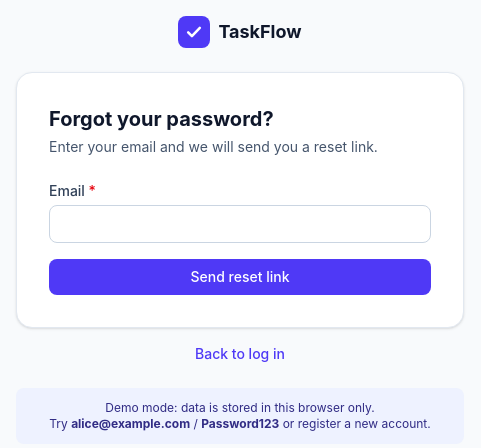
Test: GitHub Pages demo › forgot-password gives the same neutral reply
Step 1. Type "nobody@example.com" into the field labelled "Email *" → (240, 224), box [49,205,431,243]
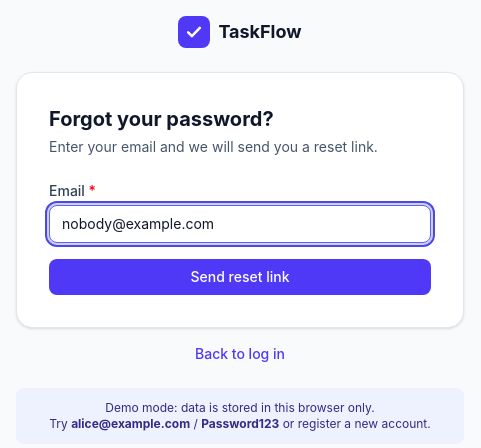
Step 2. Click the button "Send reset link" → (240, 277), box [49,259,431,295]
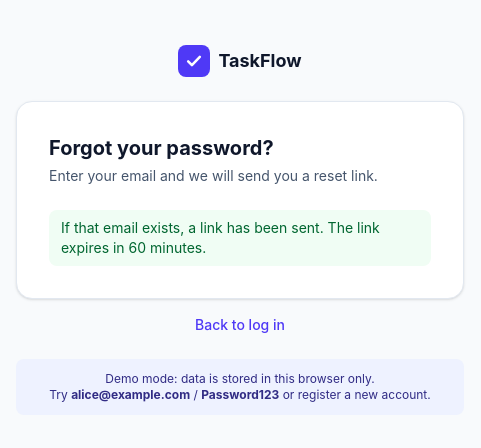
Expected: the text "If that email exists, a link has been sent. The link expires in 60 minutes." is shown, [49,210,431,266]
